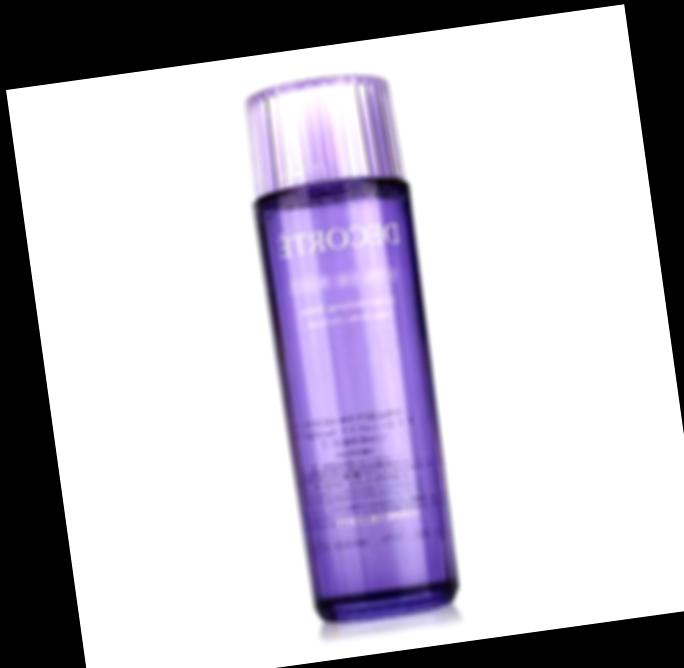cosmetic: (233, 71, 476, 629)
